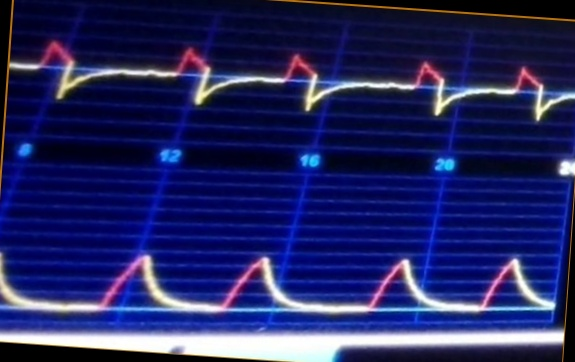Accumulation Flow: (13, 25, 574, 139)
Volume: (1, 222, 550, 321)
